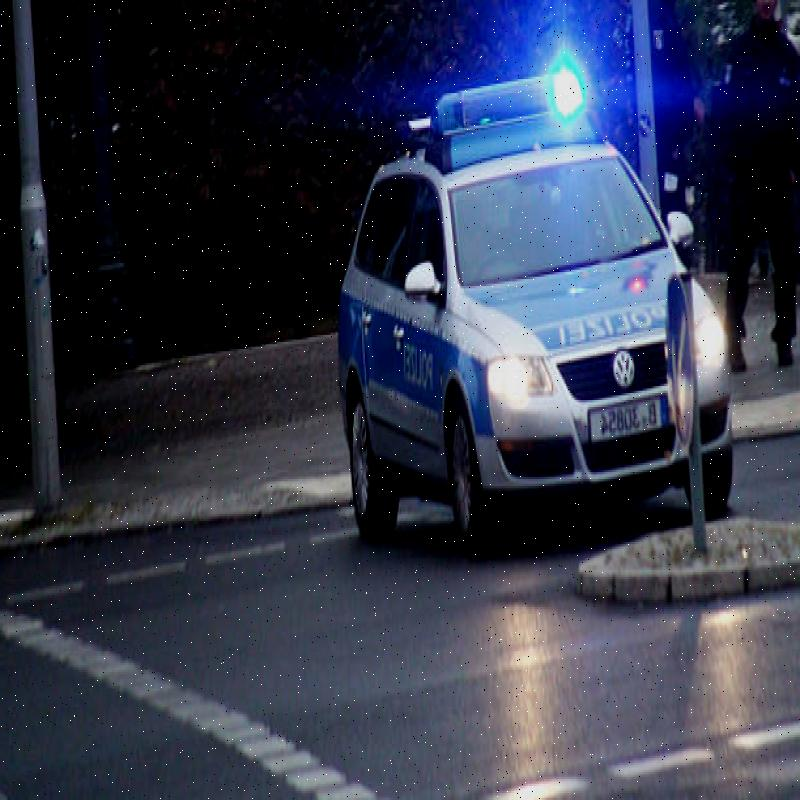AmbulanceSiren: (414, 43, 586, 179)
